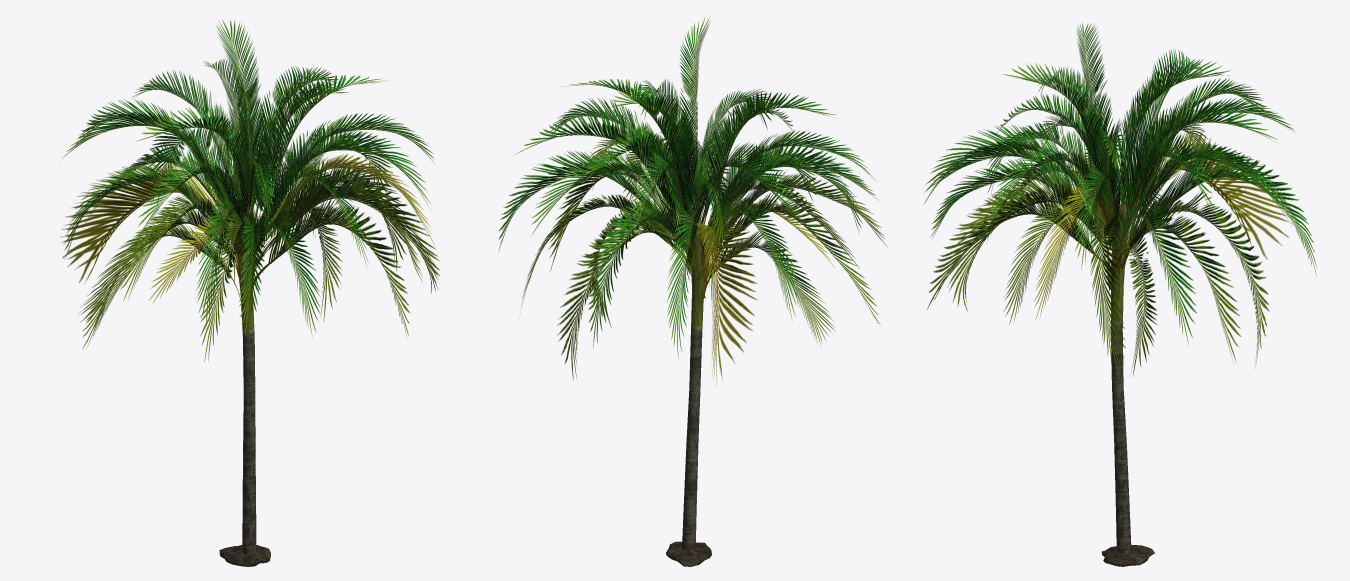
Rendered from coconut_tree.glb.
3 renders of one model, left to right at view 1: azimuth 30°, elevation 25°; view 2: azimuth 150°, elevation 25°; view 3: azimuth 270°, elevation 25°, orthographic. The views are drawn at different scales.
Parts seen in each view (by area): view 1: XI_SP_Tree.Shape_XI_SP_Leaves_0, XI_SP_Tree.Shape_XI_SP_Tree_Stem_0; view 2: XI_SP_Tree.Shape_XI_SP_Leaves_0, XI_SP_Tree.Shape_XI_SP_Tree_Stem_0; view 3: XI_SP_Tree.Shape_XI_SP_Leaves_0, XI_SP_Tree.Shape_XI_SP_Tree_Stem_0.
Part boxes in pixels (x1,y1,x2,y2): XI_SP_Tree.Shape_XI_SP_Leaves_0: (60,20,439,361); XI_SP_Tree.Shape_XI_SP_Tree_Stem_0: (219,209,270,566); XI_SP_Tree.Shape_XI_SP_Leaves_0: (498,17,886,382); XI_SP_Tree.Shape_XI_SP_Tree_Stem_0: (666,214,711,566); XI_SP_Tree.Shape_XI_SP_Leaves_0: (924,23,1316,376); XI_SP_Tree.Shape_XI_SP_Tree_Stem_0: (1101,205,1154,566).
Bounding box in the file's own units: 6.35 × 8.55 × 6.23.
Materials: 2 (2 with a texture image).
